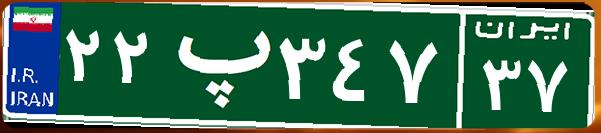2: (57, 26, 110, 107), (110, 28, 158, 105)
3: (273, 28, 330, 110), (475, 38, 525, 113)
4: (330, 28, 385, 110)
7: (385, 28, 445, 110), (525, 38, 570, 115)
پ: (158, 15, 273, 115)
